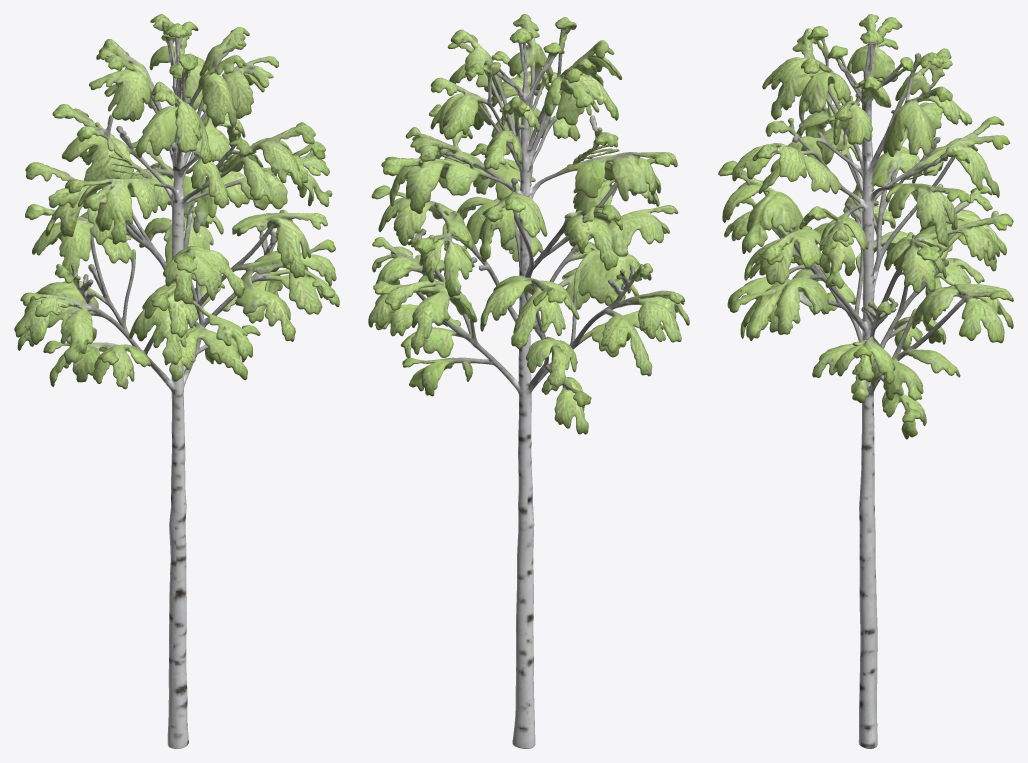
The model's file is birch.glb.
3 views of the same model, side by side, from view 1: azimuth 30°, elevation 25°; view 2: azimuth 150°, elevation 25°; view 3: azimuth 270°, elevation 25° (orthographic).
Parts seen in each view (by area): view 1: tripo_node_8d70370a-ed9a-4908-bb8e-af896ad39612; view 2: tripo_node_8d70370a-ed9a-4908-bb8e-af896ad39612; view 3: tripo_node_8d70370a-ed9a-4908-bb8e-af896ad39612.
Boxes of the visible parts, x1,y1,x2,y2 form: tripo_node_8d70370a-ed9a-4908-bb8e-af896ad39612: [14, 14, 339, 748]; tripo_node_8d70370a-ed9a-4908-bb8e-af896ad39612: [368, 14, 689, 748]; tripo_node_8d70370a-ed9a-4908-bb8e-af896ad39612: [718, 14, 1013, 748].
Bounding box in the file's own units: 0.4441 × 0.9796 × 0.3669.
Materials: 1 (1 with a texture image).
